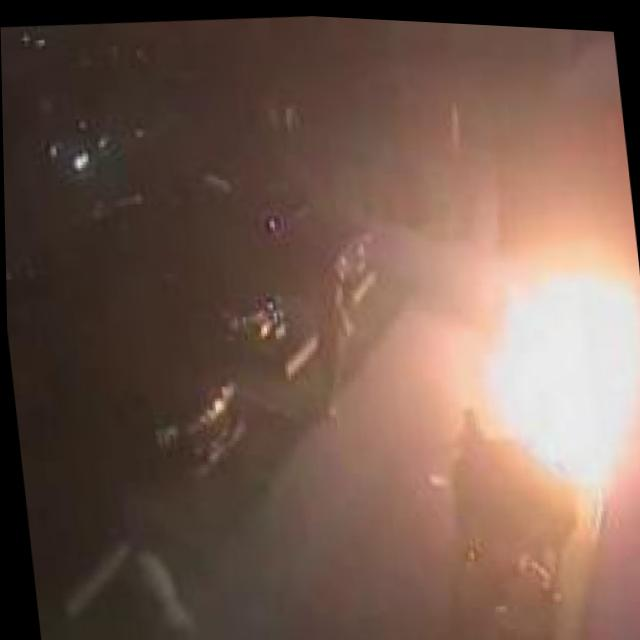fire: (445, 233, 640, 500)
